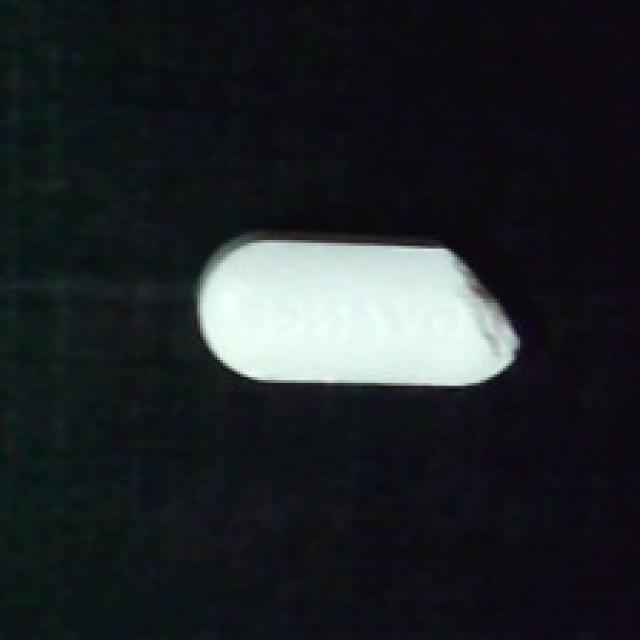defected: (191, 226, 526, 391)
